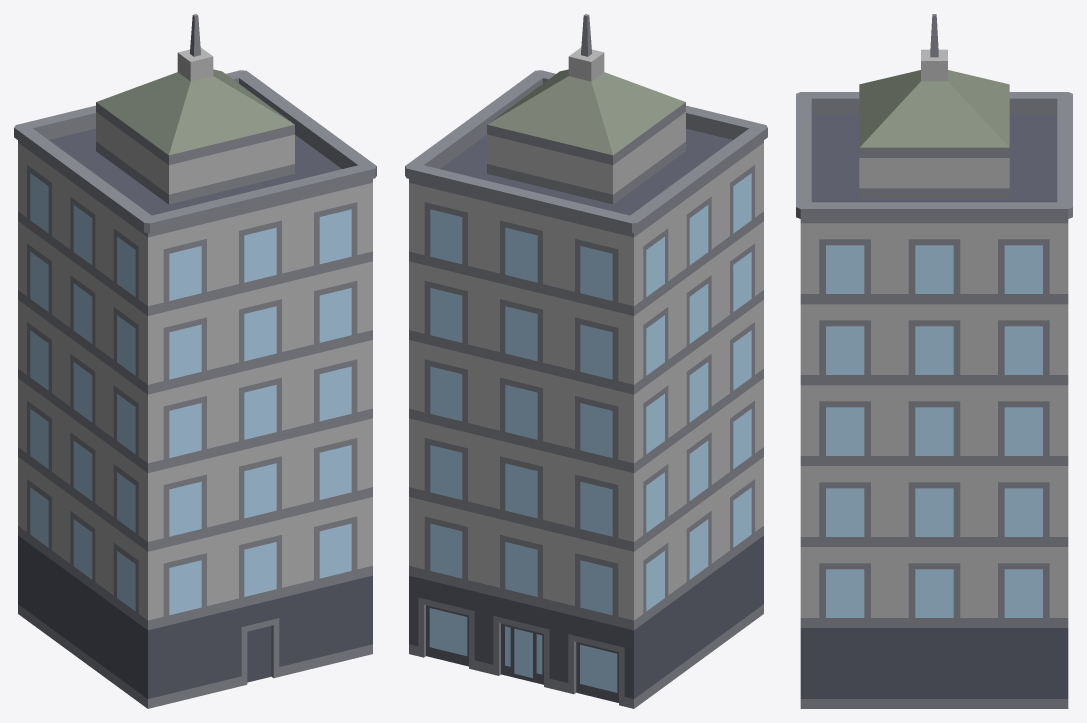
Rendered from nyc-midrise-a-0896a35a.glb.
3 renders of one model, left to right at view 1: azimuth 30°, elevation 25°; view 2: azimuth 150°, elevation 25°; view 3: azimuth 270°, elevation 25°, orthographic. The views are drawn at different scales.
Visible parts, largest first — view 1: skyscraperE; view 2: skyscraperE; view 3: skyscraperE.
Boxes of the visible parts, x1,y1,x2,y2 form: skyscraperE: (14, 14, 376, 708); skyscraperE: (405, 14, 767, 708); skyscraperE: (796, 14, 1072, 708).
Size of the model in its own units: 1.24 by 3.15 by 1.24.
